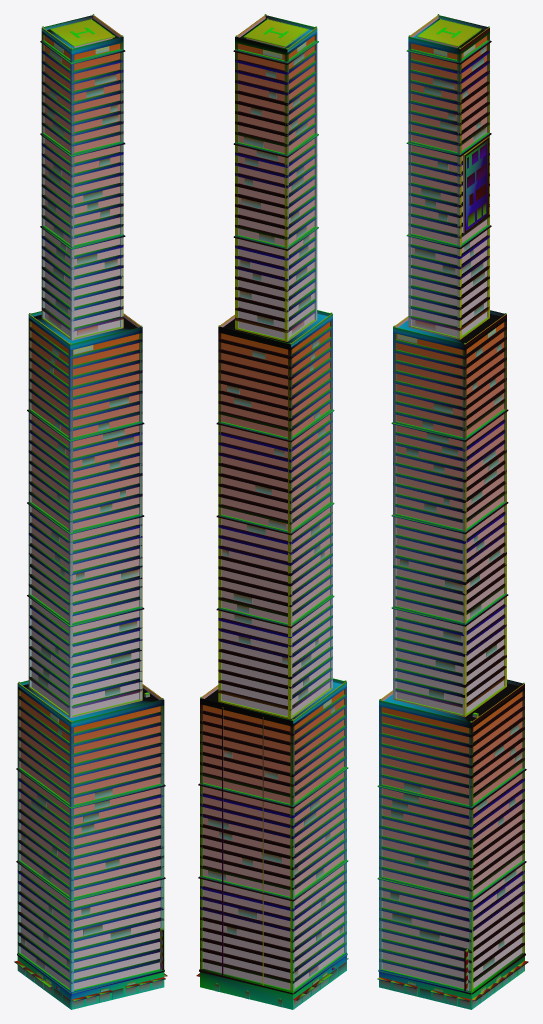
The model's file is Tower_Spire_V9.fbx.
3 views of the same model, side by side, from view 1: azimuth 30°, elevation 25°; view 2: azimuth 150°, elevation 25°; view 3: azimuth 330°, elevation 25° (orthographic).
Visible parts, largest first — view 1: Tower_Spire_V9_LOD0; view 2: Tower_Spire_V9_LOD0; view 3: Tower_Spire_V9_LOD0.
Part boxes in pixels (bbox=[...]): Tower_Spire_V9_LOD0: bbox=[14, 14, 167, 1009]; Tower_Spire_V9_LOD0: bbox=[196, 14, 348, 1009]; Tower_Spire_V9_LOD0: bbox=[377, 14, 528, 1009].
Size of what is drawn, in the model's own units: 36.8 by 332 by 36.28.
